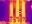Hotspot: (14, 0, 22, 22), (9, 2, 14, 24), (22, 1, 25, 17)
